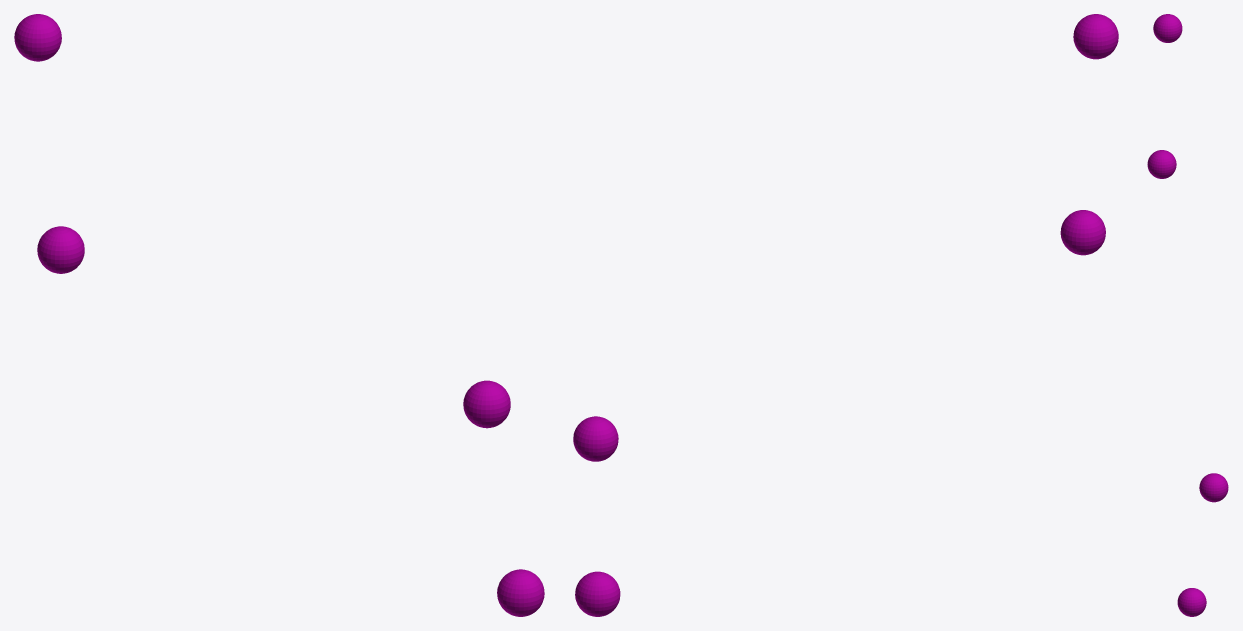
File: KSII_2017_OSL.glb
3 views of the same model, side by side, from view 1: azimuth 30°, elevation 25°; view 2: azimuth 150°, elevation 25°; view 3: azimuth 270°, elevation 25° (orthographic). The views are drawn at different scales.
Parts seen in each view (by area): view 1: 2017_OSL; view 2: 2017_OSL; view 3: 2017_OSL.
Part boxes in pixels (<box>): 2017_OSL: <box>14,14,544,616</box>; 2017_OSL: <box>573,14,1118,616</box>; 2017_OSL: <box>1147,14,1228,616</box>.
Size of the model in its own units: 1.32 by 1.7 by 0.278.
